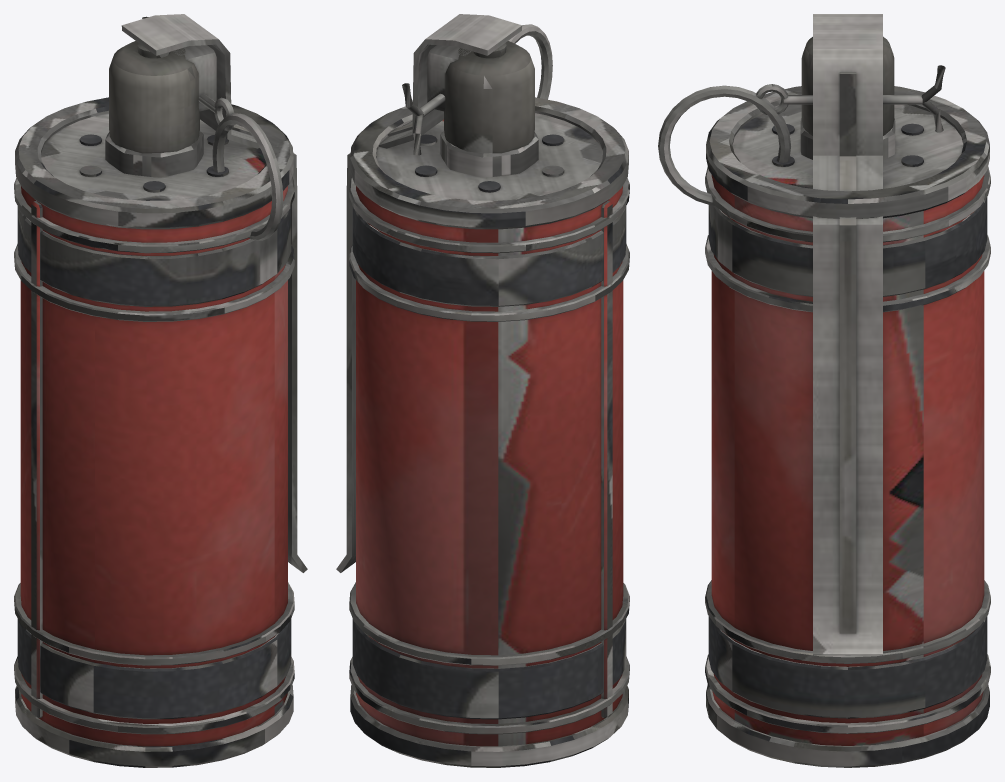
File: incendiary_grenade.glb
3 views of the same model, side by side, from view 1: azimuth 30°, elevation 25°; view 2: azimuth 150°, elevation 25°; view 3: azimuth 270°, elevation 25° (orthographic).
Parts seen in each view (by area): view 1: body, band_1, band_0, rim_top, fuze_body, top_plate, spoon, rim_bottom, seam, rib_1_1, rib_1_-1, rib_0_-1 (+4 smaller); view 2: body, band_0, band_1, rim_top, fuze_body, top_plate, spoon, rim_bottom, seam, rib_1_1, rib_0_1, rib_1_-1 (+4 smaller); view 3: body, spoon, band_1, rim_top, band_0, spoon_rib, top_plate, rim_bottom, rib_1_-1, rib_1_1, pull_ring, rib_0_1 (+4 smaller).
Boxes of the visible parts, left/top/right/bottom form: body: left=20, top=186, right=287, bottom=746; band_1: left=17, top=619, right=291, bottom=719; band_0: left=17, top=206, right=291, bottom=306; rim_top: left=15, top=97, right=293, bottom=229; fuze_body: left=109, top=41, right=199, bottom=153; top_plate: left=41, top=113, right=265, bottom=200; spoon: left=121, top=14, right=307, bottom=572; rim_bottom: left=15, top=685, right=293, bottom=767; seam: left=31, top=201, right=42, bottom=718; rib_1_1: left=14, top=582, right=294, bottom=665; rib_1_-1: left=14, top=656, right=294, bottom=734; rib_0_-1: left=14, top=244, right=294, bottom=321; body: left=356, top=186, right=623, bottom=746; band_0: left=352, top=206, right=626, bottom=306; band_1: left=352, top=619, right=626, bottom=719; rim_top: left=350, top=97, right=628, bottom=229; fuze_body: left=444, top=41, right=534, bottom=153; top_plate: left=376, top=113, right=602, bottom=200; spoon: left=336, top=14, right=522, bottom=572; rim_bottom: left=350, top=685, right=628, bottom=767; seam: left=601, top=201, right=612, bottom=718; rib_1_1: left=349, top=582, right=629, bottom=665; rib_0_1: left=349, top=177, right=629, bottom=253; rib_1_-1: left=349, top=656, right=629, bottom=734; body: left=711, top=175, right=984, bottom=745; spoon: left=813, top=14, right=882, bottom=655; band_1: left=708, top=616, right=987, bottom=718; rim_top: left=706, top=86, right=989, bottom=218; band_0: left=708, top=197, right=987, bottom=296; spoon_rib: left=839, top=72, right=856, bottom=633; top_plate: left=732, top=104, right=963, bottom=188; rim_bottom: left=706, top=685, right=989, bottom=767; rib_1_-1: left=705, top=654, right=990, bottom=733; rib_1_1: left=705, top=580, right=990, bottom=663; pull_ring: left=658, top=85, right=790, bottom=205; rib_0_1: left=705, top=166, right=990, bottom=242.
Bounding box in the file's own units: 0.0589 × 0.148 × 0.0648.
1 material, 1 textured.
